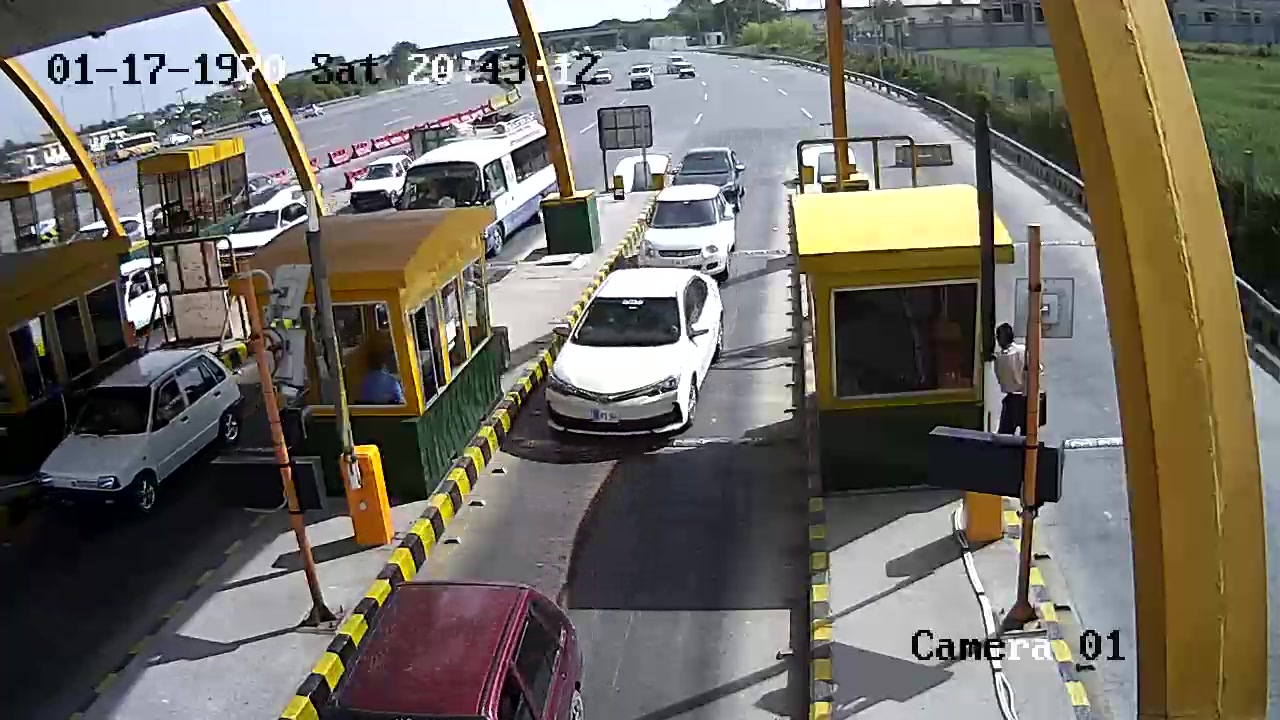F1: (527, 265, 736, 470)
